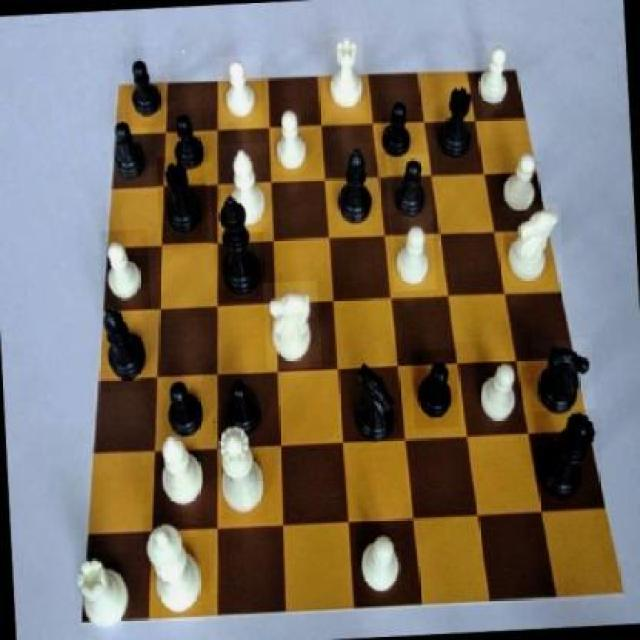bishop: (96, 301, 152, 394), (334, 143, 380, 232)
black-bishop: (211, 188, 267, 303)
black-king: (532, 338, 596, 428), (342, 356, 401, 450)
black-knight: (160, 371, 211, 448), (411, 349, 460, 429), (223, 366, 269, 446), (386, 154, 433, 230), (123, 46, 166, 129), (374, 95, 421, 168), (108, 119, 154, 188), (165, 109, 209, 180)
black-pawn: (534, 408, 604, 510)
black-queen: (426, 83, 483, 174), (157, 157, 209, 251)
black-rook: (218, 143, 272, 234), (157, 428, 206, 515)
white-bishop: (142, 512, 212, 620)
white-king: (498, 204, 564, 294), (263, 282, 321, 371)
white-knight: (98, 229, 152, 312), (471, 356, 524, 436), (354, 520, 407, 599), (390, 216, 438, 292), (494, 149, 546, 219), (469, 40, 518, 114), (215, 55, 262, 131), (269, 104, 314, 180)
white-pawn: (217, 412, 269, 520)
white-queen: (74, 552, 134, 636), (322, 31, 366, 120)
